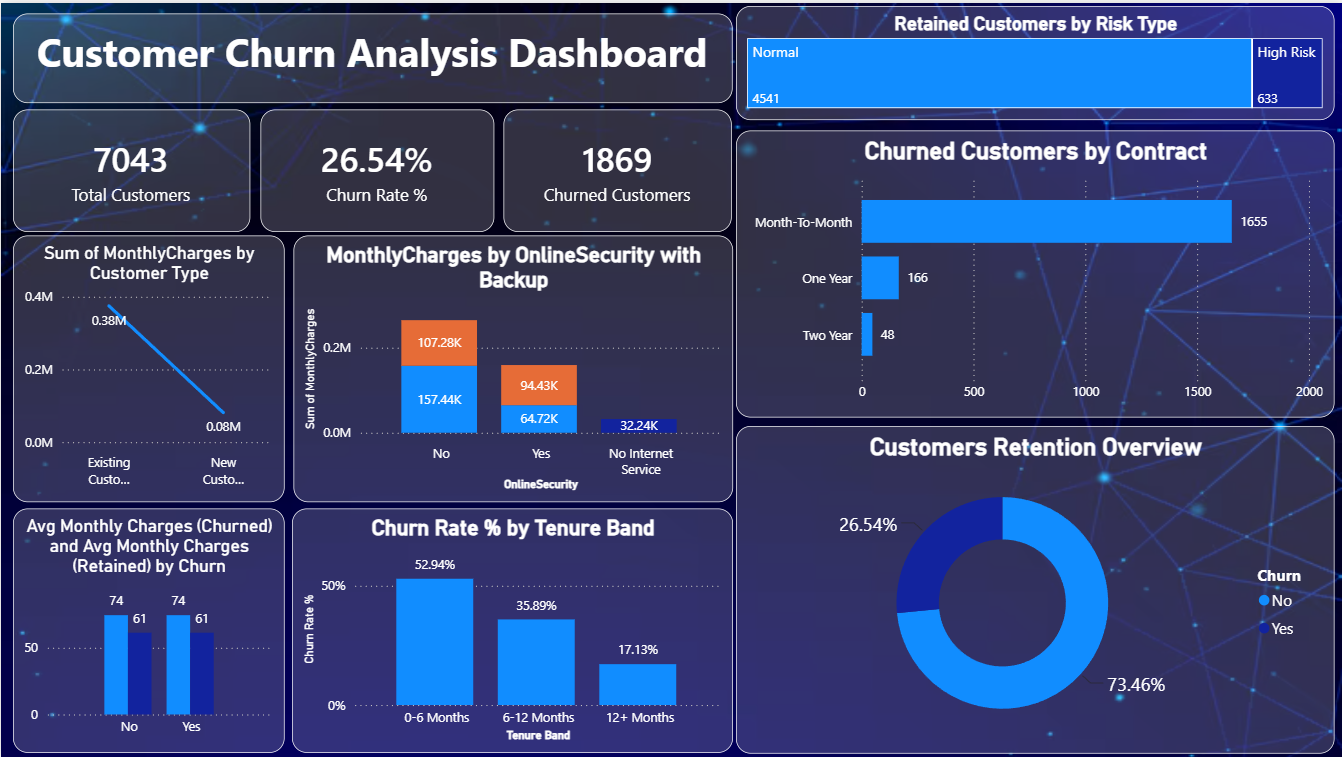

The page's visual inventory and layout, read from the dashboard file:
{"tool":"powerbi","page":{"name":"Page 1","canvas":[1280,720],"ordinal":0},"visuals":[{"type":"textbox","box":[11.7,10,685,85],"z":0},{"type":"treemap","fields":{"Values":["Calculated Measure.Reatained Customers"],"Group":["telco_churn_unclean.Risk Type"]},"box":[700,2.9,570,108.6],"z":1000},{"type":"cardVisual","fields":{"Data":["Calculated Measure.Total Customers"]},"box":[11.7,100.8,225.8,116.7],"z":2000},{"type":"cardVisual","fields":{"Data":["Calculated Measure.Churn Rate %"]},"box":[246.7,100.8,222.5,116.7],"z":3000},{"type":"cardVisual","fields":{"Data":["Calculated Measure.Churned CustomerS"]},"box":[479.2,100.8,217.5,116.7],"z":4000},{"type":"donutChart","title":"Customers Retention Overview","fields":{"Y":["Calculated Measure.Total Customers"],"Category":["telco_churn_unclean.Churn"]},"box":[700,403.3,570,311.7],"z":5000},{"type":"barChart","fields":{"Category":["telco_churn_unclean.Contract"],"Y":["Calculated Measure.Churned Customers"]},"box":[700,120.9,570,273.6],"z":6000},{"type":"columnChart","title":"MonthlyCharges by OnlineSecurity with Backup","fields":{"Category":["telco_churn_unclean.OnlineSecurity"],"Y":["Sum(telco_churn_unclean.MonthlyCharges)"],"Series":["telco_churn_unclean.OnlineBackup"]},"box":[278.3,220.8,418.3,254.2],"z":7000},{"type":"columnChart","fields":{"Y":["Calculated Measure.Churn Rate %"],"Category":["telco_churn_unclean.Tenure Band"]},"box":[276.7,480.8,420,232.5],"z":8000},{"type":"clusteredColumnChart","title":"Avg Monthly Charges (Churned) and Avg Monthly Charges (Retained) by Churn","fields":{"Y":["Calculated Measure.Avg Monthly Charges(Churned)","Calculated Measure.Avg Monthly Charges(Retained)"],"Category":["telco_churn_unclean.Churn"]},"box":[11.7,480.8,258.3,232.5],"z":9000},{"type":"lineChart","fields":{"Category":["telco_churn_unclean.Customer Type"],"Y":["Sum(telco_churn_unclean.MonthlyCharges)"]},"box":[11.7,220.8,258.3,254.2],"z":10000}]}

Visuals, with their boxes in screenshot pixels (x1, y1, x2, y2), scaled from the page's 1280x720 canvas onto the 1342x757 screenshot:
textbox: [x1=12, y1=11, x2=730, y2=100]
treemap - Calculated Measure.Reatained Customers x telco_churn_unclean.Risk Type: [x1=734, y1=3, x2=1332, y2=117]
cardVisual - Calculated Measure.Total Customers: [x1=12, y1=106, x2=249, y2=229]
cardVisual - Calculated Measure.Churn Rate %: [x1=259, y1=106, x2=492, y2=229]
cardVisual - Calculated Measure.Churned CustomerS: [x1=502, y1=106, x2=730, y2=229]
"Customers Retention Overview" donutChart: [x1=734, y1=424, x2=1332, y2=752]
barChart - telco_churn_unclean.Contract x Calculated Measure.Churned Customers: [x1=734, y1=127, x2=1332, y2=415]
"MonthlyCharges by OnlineSecurity with Backup" columnChart: [x1=292, y1=232, x2=730, y2=499]
columnChart - Calculated Measure.Churn Rate % x telco_churn_unclean.Tenure Band: [x1=290, y1=506, x2=730, y2=750]
"Avg Monthly Charges (Churned) and Avg Monthly Charges (Retained) by Churn" clusteredColumnChart: [x1=12, y1=506, x2=283, y2=750]
lineChart - telco_churn_unclean.Customer Type x Sum(telco_churn_unclean.MonthlyCharges): [x1=12, y1=232, x2=283, y2=499]
